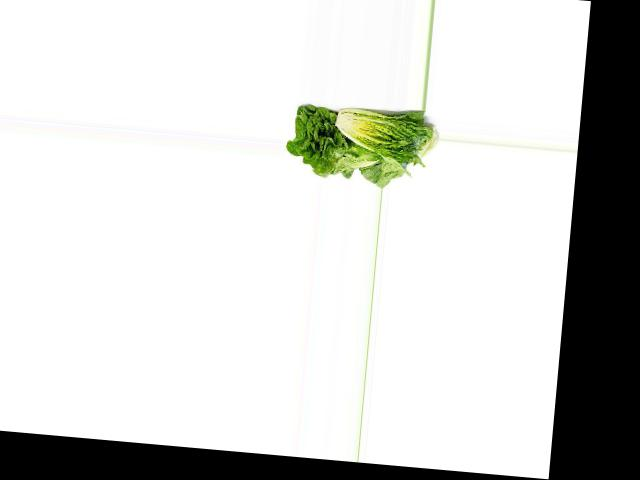lettuce: (286, 98, 380, 181)
